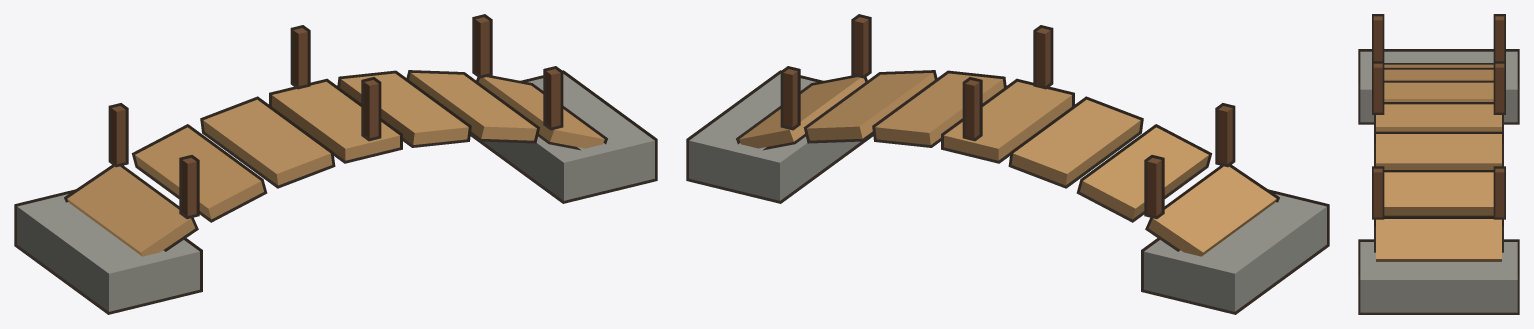
File: bridge_01.glb
3 views of the same model, side by side, from view 1: azimuth 30°, elevation 25°; view 2: azimuth 150°, elevation 25°; view 3: azimuth 270°, elevation 25° (orthographic). The views are drawn at different scales.
Parts seen in each view (by area): view 1: OBJ_bridge_01; view 2: OBJ_bridge_01; view 3: OBJ_bridge_01.
Part boxes in pixels (left/top/right/bottom): OBJ_bridge_01: left=14, top=14, right=657, bottom=314; OBJ_bridge_01: left=686, top=14, right=1329, bottom=314; OBJ_bridge_01: left=1358, top=14, right=1519, bottom=314.
Bounding box in the file's own units: 2.42 × 0.666 × 0.716.
